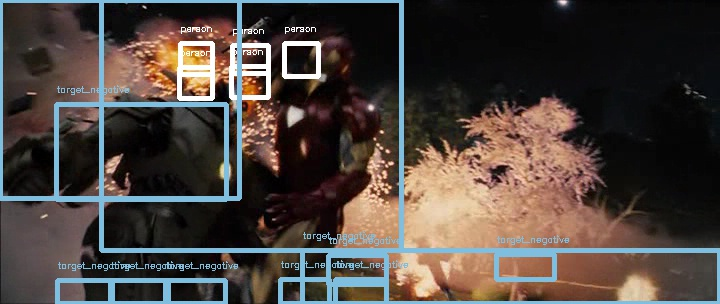person: (303, 41, 349, 95), (302, 41, 348, 95), (304, 41, 350, 95), (303, 40, 349, 94), (303, 42, 349, 96)
target_negative: (91, 136, 567, 297), (186, 87, 437, 201), (264, 56, 433, 98), (56, 255, 149, 277), (624, 69, 649, 130), (436, 82, 445, 85)
